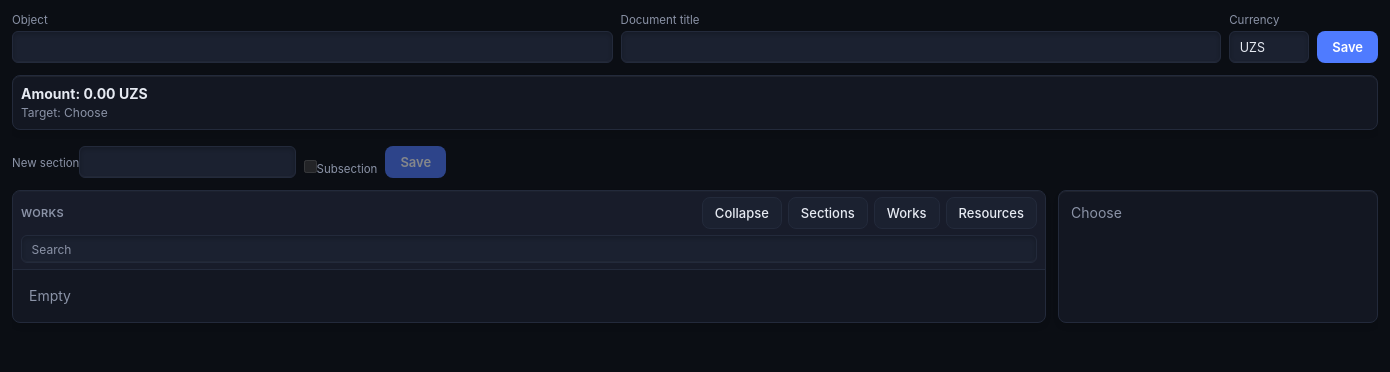
it: invalid currency does not mutate the draft or leak an internal code
This screenshot has width=1390, height=372.
Replace the text in the field labelled "Currency" with "12": {"x": 1269, "y": 47} [1229,31,1309,63]
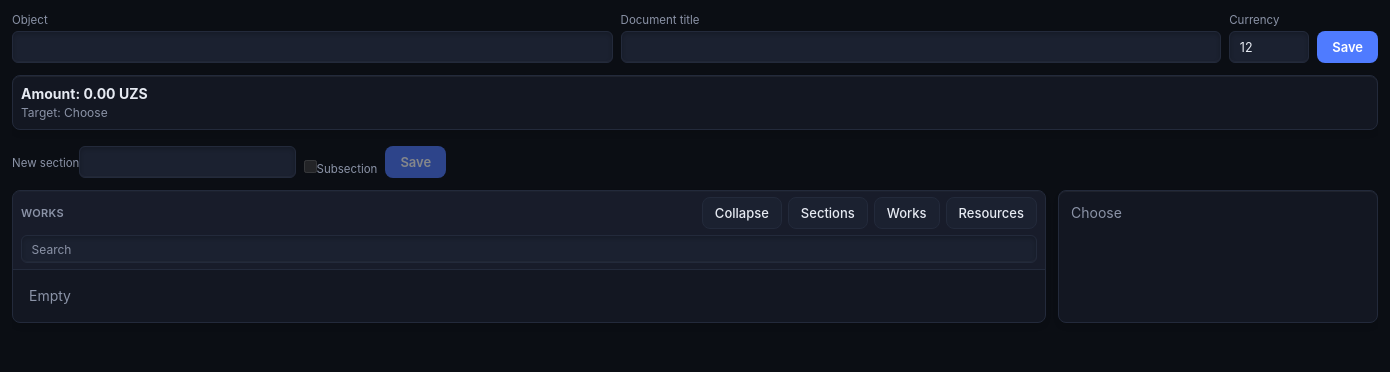
Submit the form labelled "Object", box [12,12,1378,63]
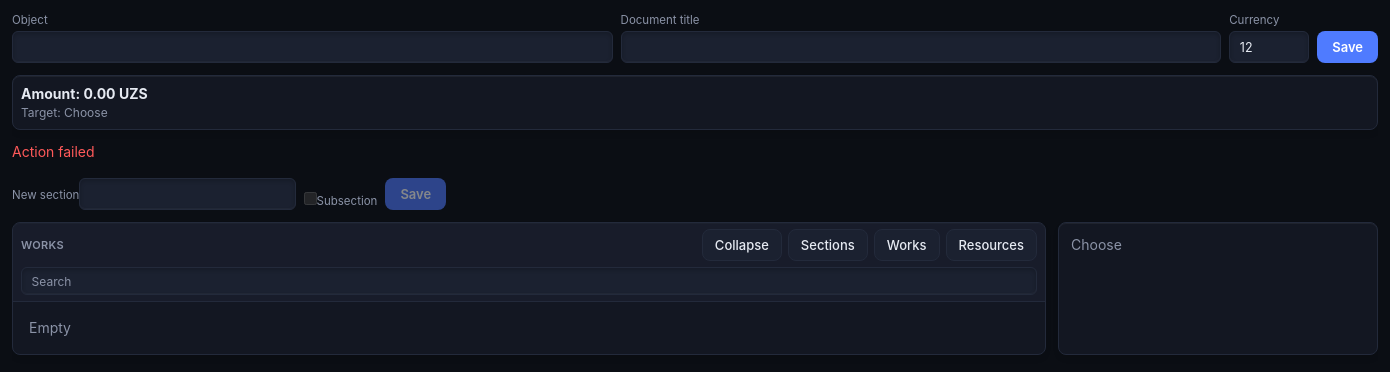
Expected: the message "Action failed" is shown, [12,143,95,160]
